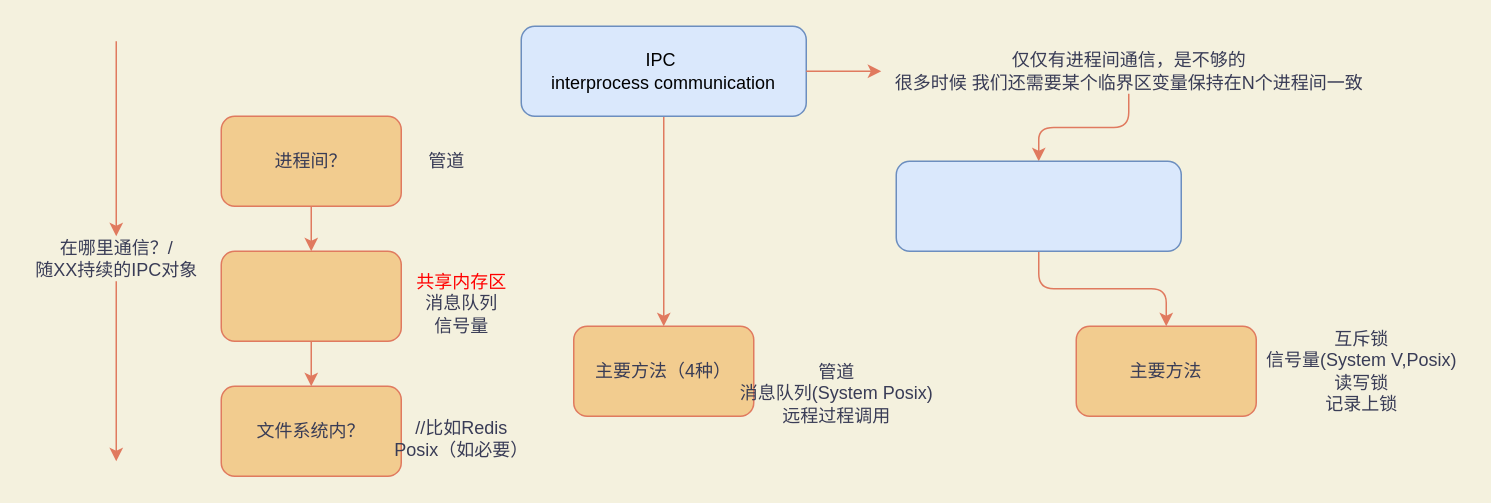
The diagram is 1491 pixels wide and 503 high, and some of its shapes have lost their labels. Each missing label, with the centre of its shape:
"内核中？" goes at point 310,295.
"同步" goes at point 1038,205.
